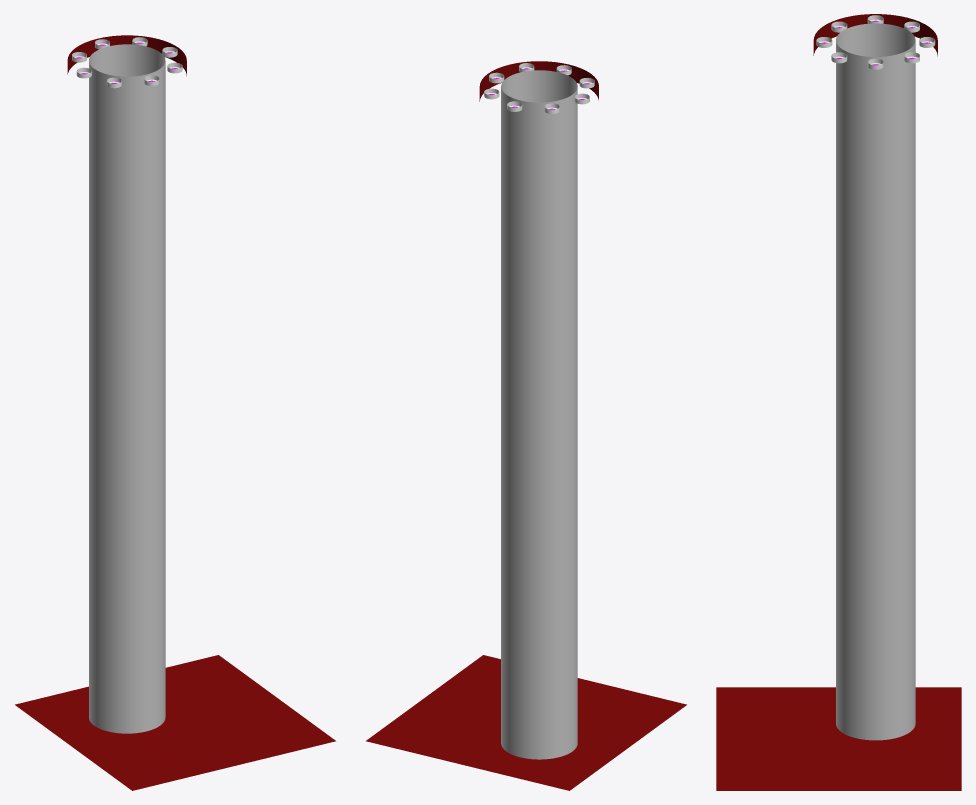
Rendered from column_2.fbx.
The picture shows the model from 3 angles, left to right: view 1: azimuth 30°, elevation 25°; view 2: azimuth 150°, elevation 25°; view 3: azimuth 270°, elevation 25°; orthographic projection. The views are drawn at different scales.
Visible parts, largest first — view 1: column2; view 2: column2; view 3: column2.
Boxes of the visible parts, x1,y1,x2,y2 form: column2: (15, 35, 335, 790); column2: (366, 61, 686, 790); column2: (716, 14, 961, 790).
Size of the model in its own units: 4 by 12.3 by 4.
